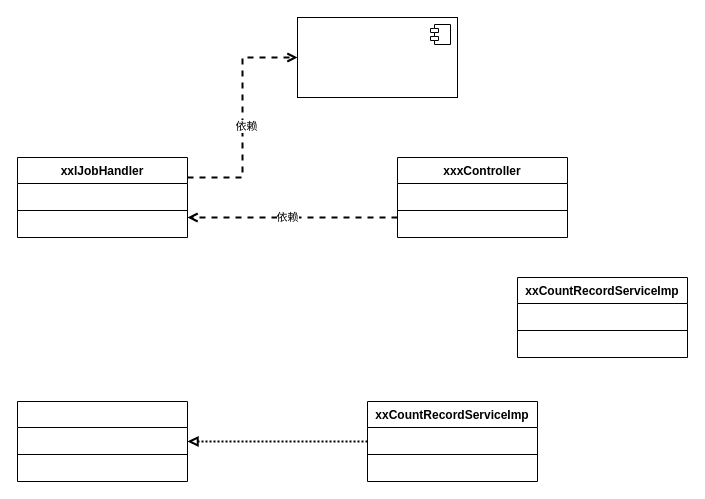
This 705x499 diagram has some shape labels left out. Here are the shapes that lost their labels. From the top down, the box of each, then its label:
(296, 16, 458, 98): 外部接口数据封装服务类
(16, 400, 188, 482): xxCountRecordService
